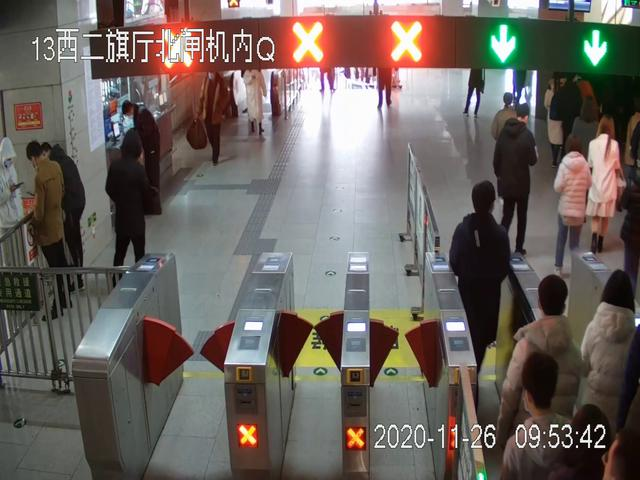person: (498, 276, 583, 480), (449, 180, 512, 390), (584, 269, 640, 438), (25, 140, 73, 321), (36, 142, 86, 293), (106, 128, 147, 301), (493, 103, 536, 260), (552, 133, 594, 276), (587, 115, 624, 254), (120, 100, 162, 217), (196, 71, 231, 165), (242, 68, 269, 141)
